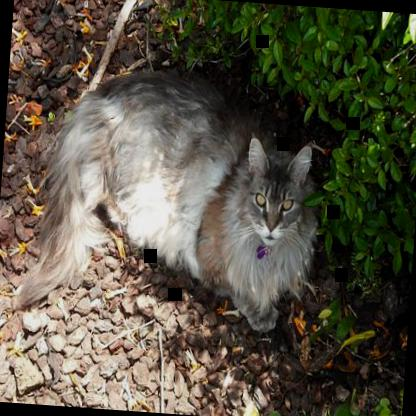cat: (17, 66, 326, 336)
